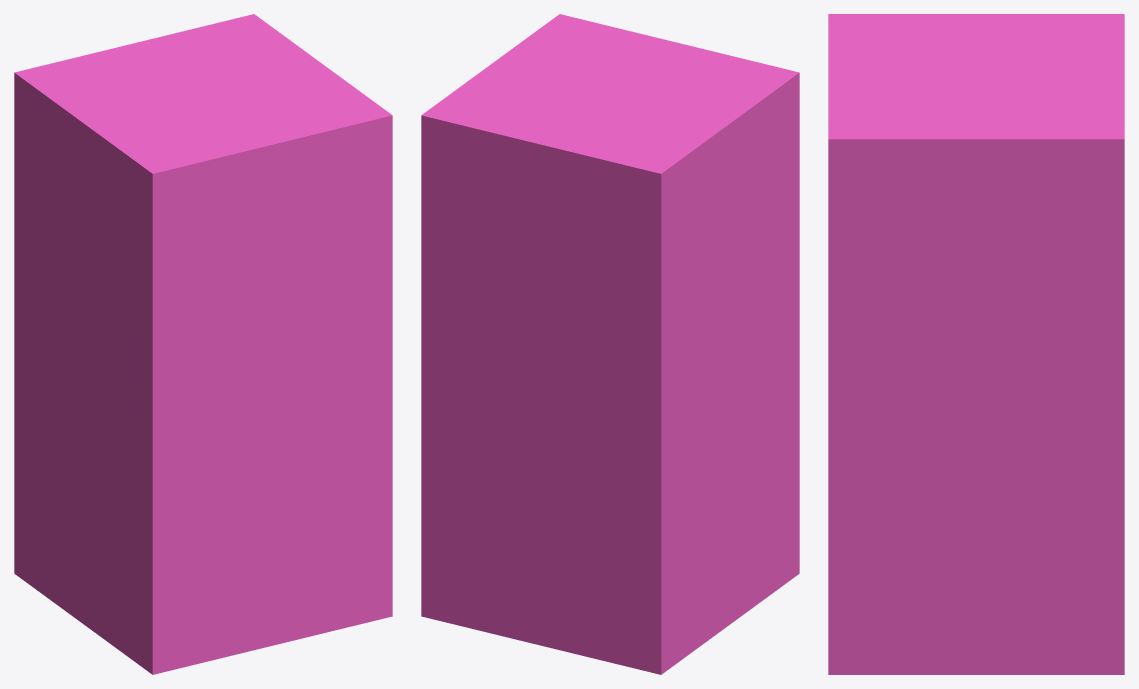
File: PinkThinEdge.fbx
3 views of the same model, side by side, from view 1: azimuth 30°, elevation 25°; view 2: azimuth 150°, elevation 25°; view 3: azimuth 270°, elevation 25° (orthographic). The views are drawn at different scales.
Visible parts, largest first — view 1: 4.BODY.green.012; view 2: 4.BODY.green.012; view 3: 4.BODY.green.012.
Boxes of the visible parts, x1,y1,x2,y2 form: 4.BODY.green.012: (14, 14, 392, 674); 4.BODY.green.012: (421, 14, 799, 674); 4.BODY.green.012: (828, 14, 1124, 674).
Bounding box in the file's own units: 100 × 201 × 101.
